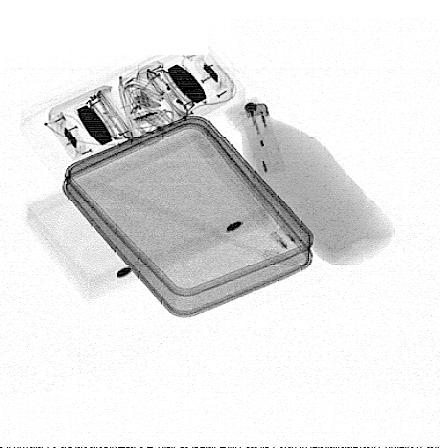Lighter: (239, 97, 288, 176)
